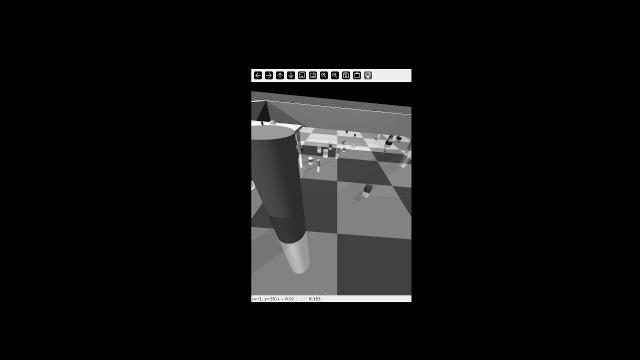cilindro: (252, 125, 303, 246), (396, 135, 401, 141), (317, 159, 321, 166), (335, 147, 340, 152), (351, 143, 356, 148), (259, 121, 265, 125), (405, 149, 409, 154), (342, 139, 345, 144)
cuadrado: (361, 181, 375, 196), (316, 143, 323, 150), (322, 149, 329, 155), (270, 119, 276, 125), (376, 133, 381, 138), (335, 131, 340, 134), (344, 130, 349, 133), (389, 135, 394, 138), (389, 138, 392, 141)
esfera: (306, 154, 314, 164), (328, 140, 333, 148), (341, 146, 347, 152), (351, 134, 357, 137), (374, 137, 379, 140)
rectangulo: (387, 140, 392, 146)
